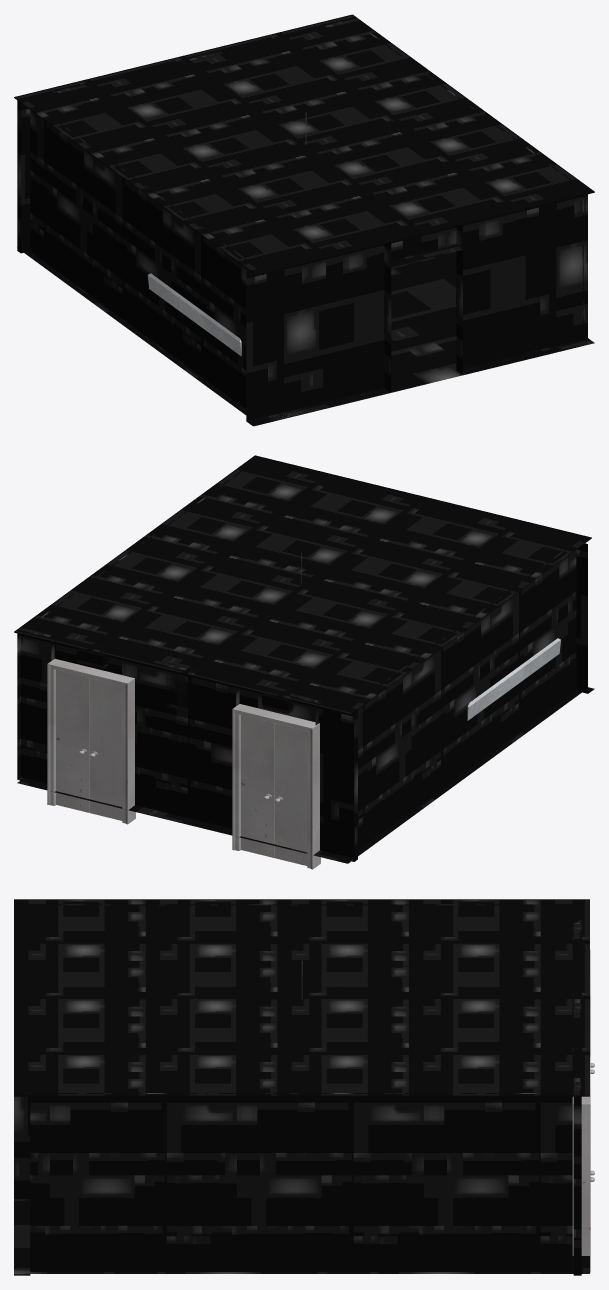
The model's file is room1lifts_opt.obj.
3 views of the same model, one above another, from view 1: azimuth 30°, elevation 25°; view 2: azimuth 150°, elevation 25°; view 3: azimuth 270°, elevation 25° (orthographic). The views are drawn at different scales.
Bounding box in the file's own units: 912 × 503 × 1130.
